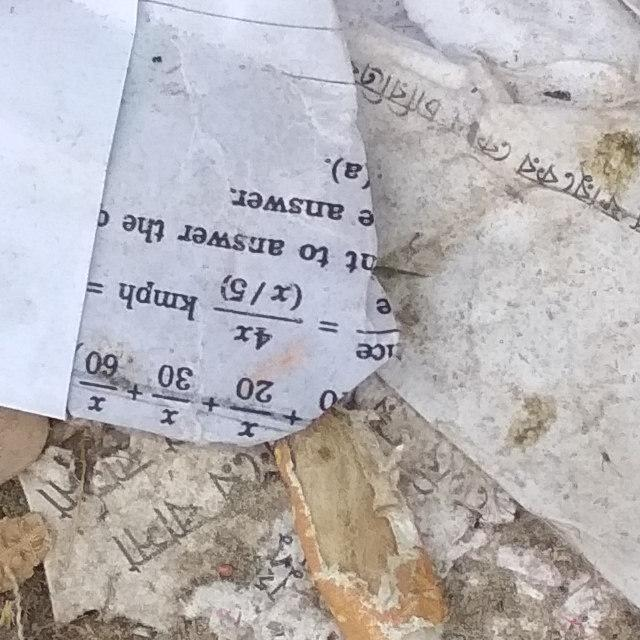paper: (46, 0, 640, 640), (0, 0, 429, 542), (0, 322, 640, 640)
